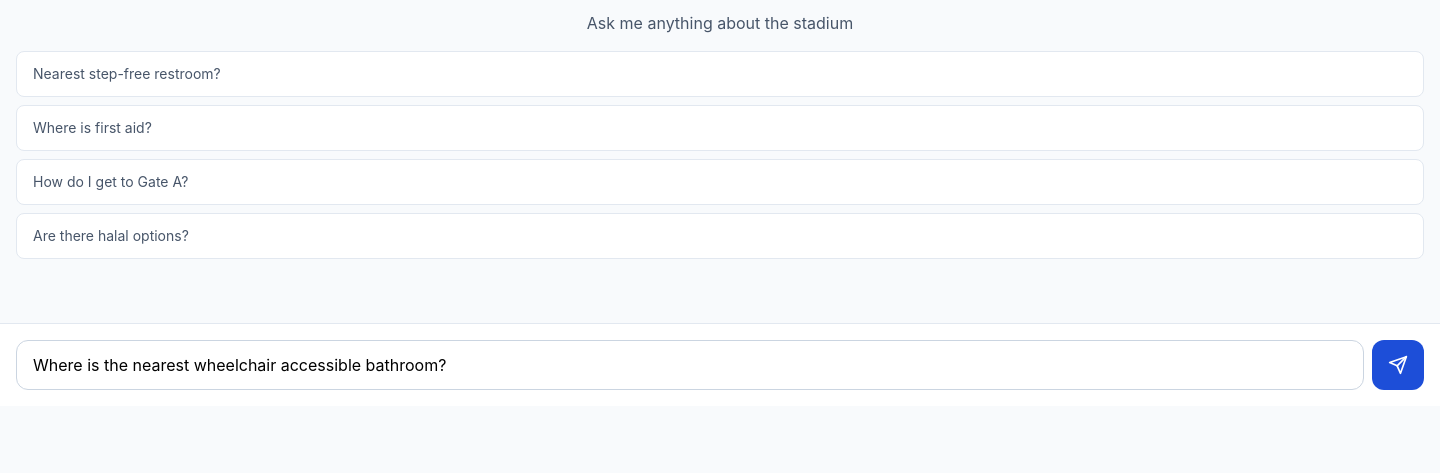
it: ChatInterface › shows error message on fetch failure
Replace the text in the field with placeholder "Ask about the stadium..." with "Where is first aid?": x=690, y=365 [16,340,1364,390]
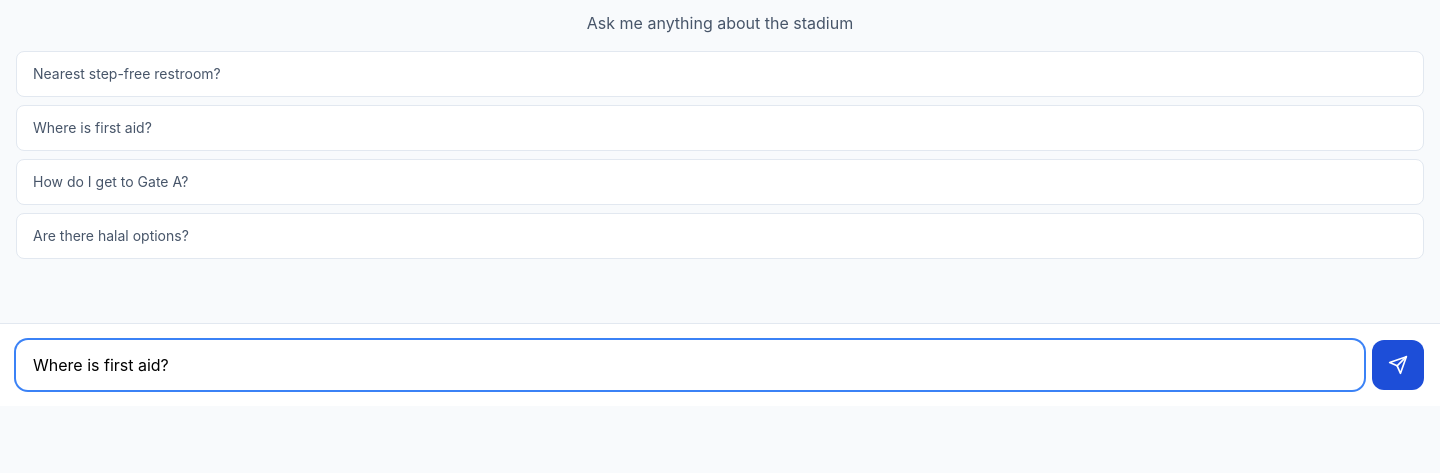
Submit the form with id "chat-form", box [0,323,1439,406]
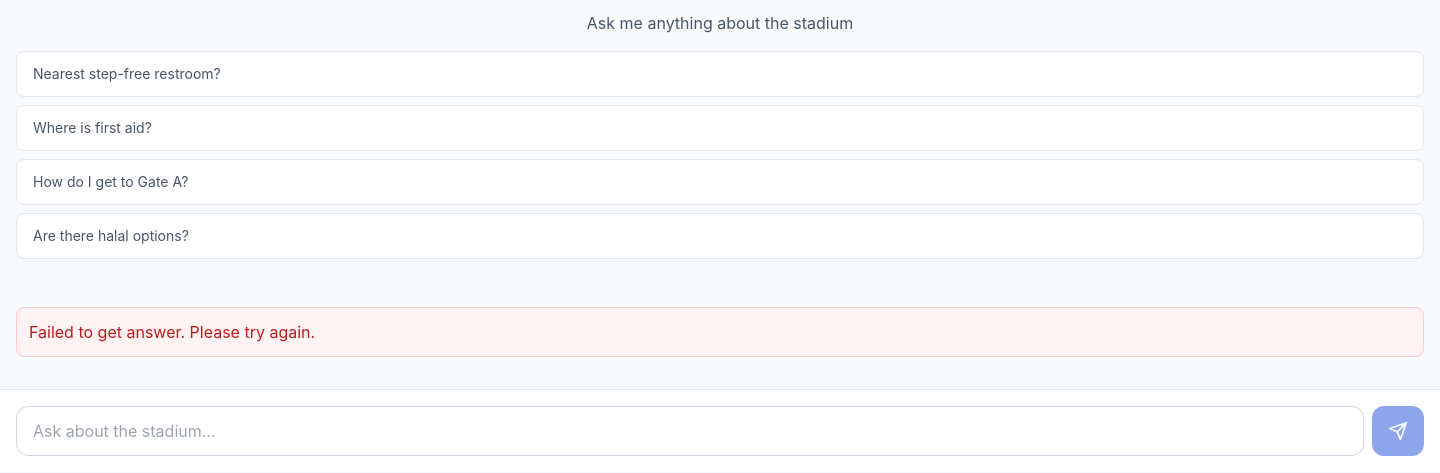
Check: the text "Failed to get answer. Please try again." is shown, box [16,307,1424,357]
